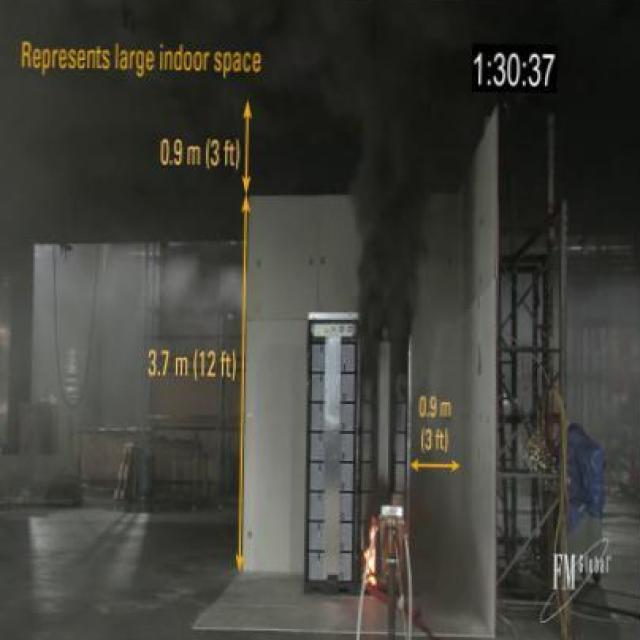fire: (318, 53, 444, 308)
smoke: (358, 512, 388, 594)
